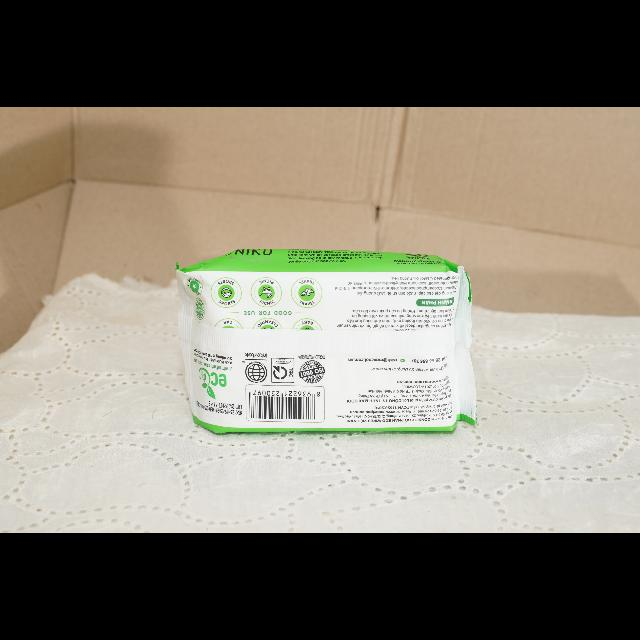khan_giay: (176, 249, 476, 433)
